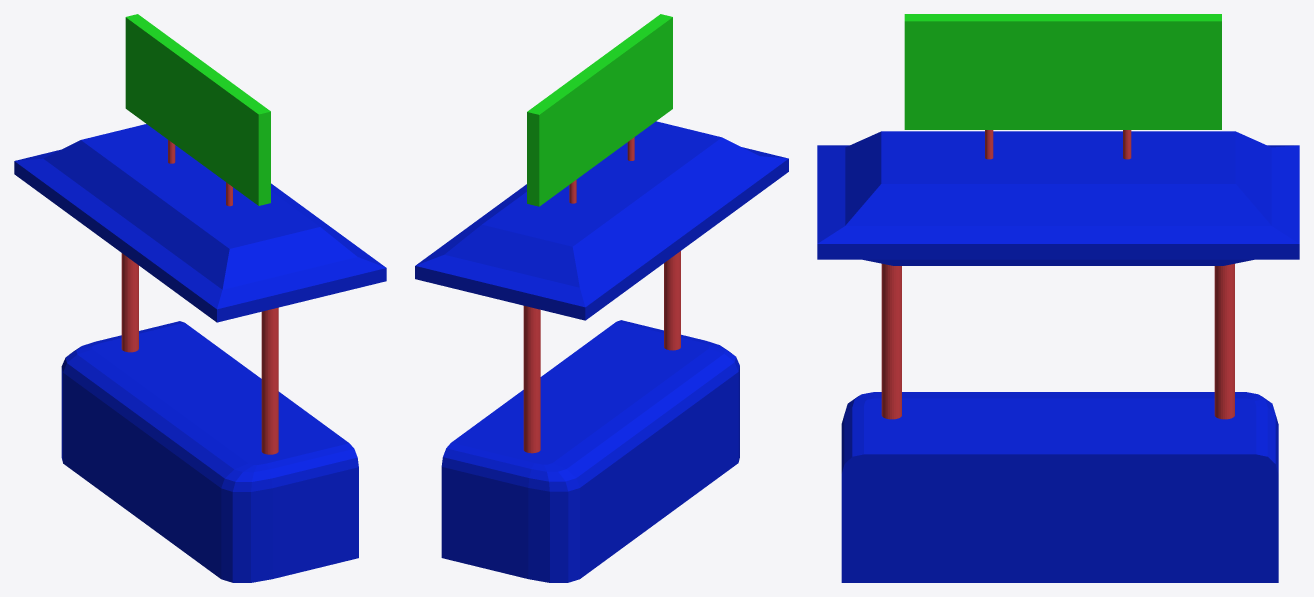
Rendered from ManzanasStand.fbx.
The picture shows the model from 3 angles, left to right: view 1: azimuth 30°, elevation 25°; view 2: azimuth 150°, elevation 25°; view 3: azimuth 270°, elevation 25°; orthographic projection. The views are drawn at different scales.
Parts seen in each view (by area): view 1: Cube.014; view 2: Cube.014; view 3: Cube.014.
Part boxes in pixels (box(x1,y1,x2,y2)): Cube.014: box(14, 14, 386, 582); Cube.014: box(415, 14, 788, 582); Cube.014: box(817, 14, 1299, 582).
Size of the model in its own units: 388 by 966 by 803.
